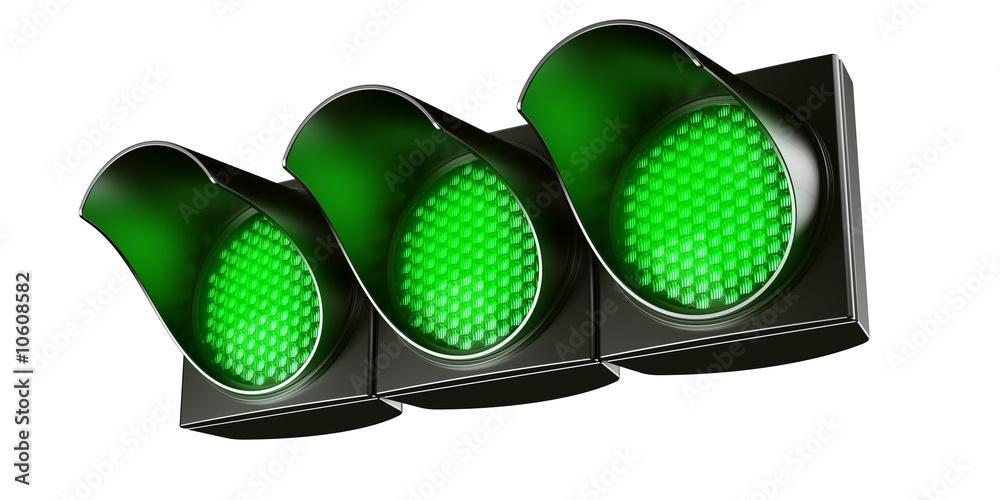green: (85, 0, 891, 446)
